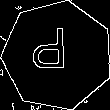P_S: (38, 30, 77, 81)
